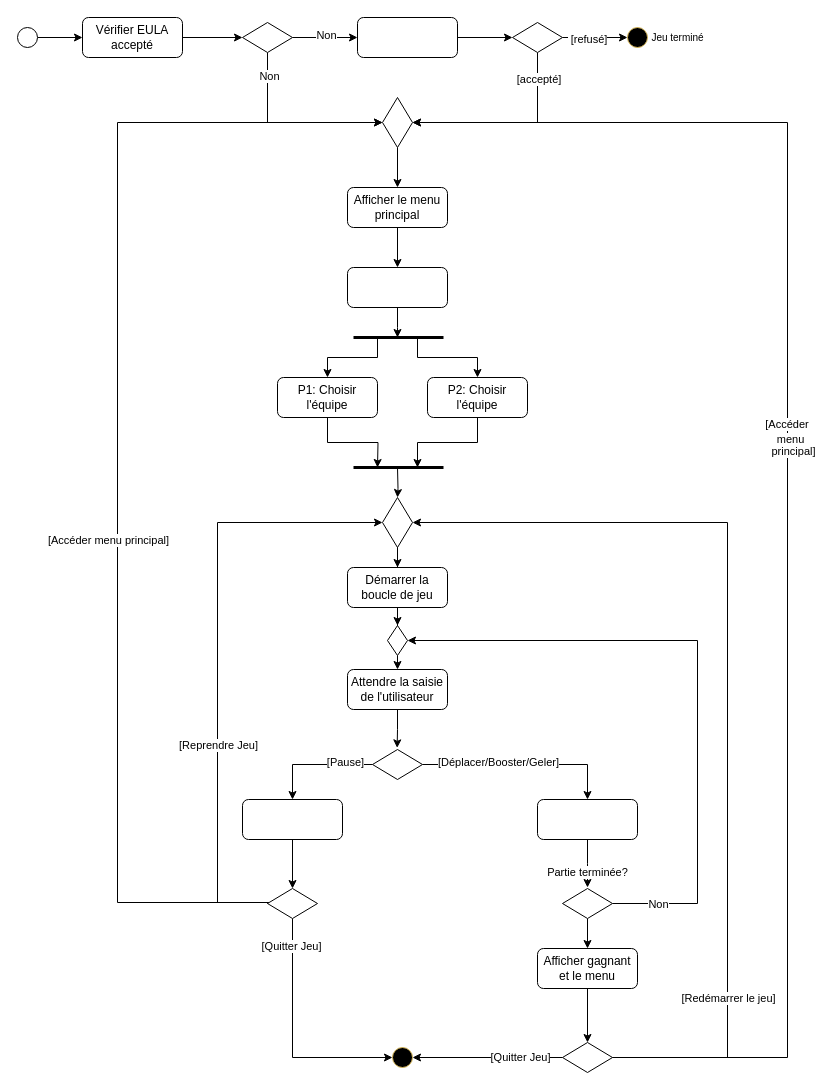
The diagram is 832 pixels wide and 1090 high, and some of its shapes have lost their labels. The shapes that lost their labels are listed below. From the top down, each one's box as (x1, y1, x2, y2) in pixels, then its label:
(356, 16, 458, 58): Afficher EULA
(346, 266, 448, 308): Lancer le jeu
(242, 798, 342, 840): Mettre le jeu en pause
(536, 798, 638, 840): Mettre à jour l'état du jeu
